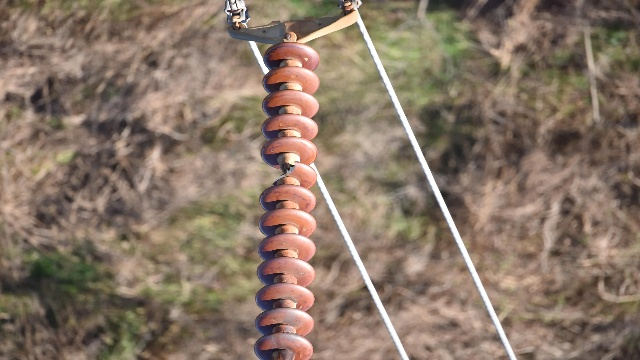broken_local: (271, 159, 302, 186)
insulator_unspecified: (253, 42, 322, 359)
